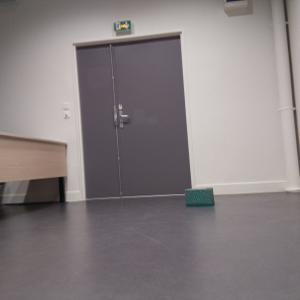small: (184, 187, 216, 207)
